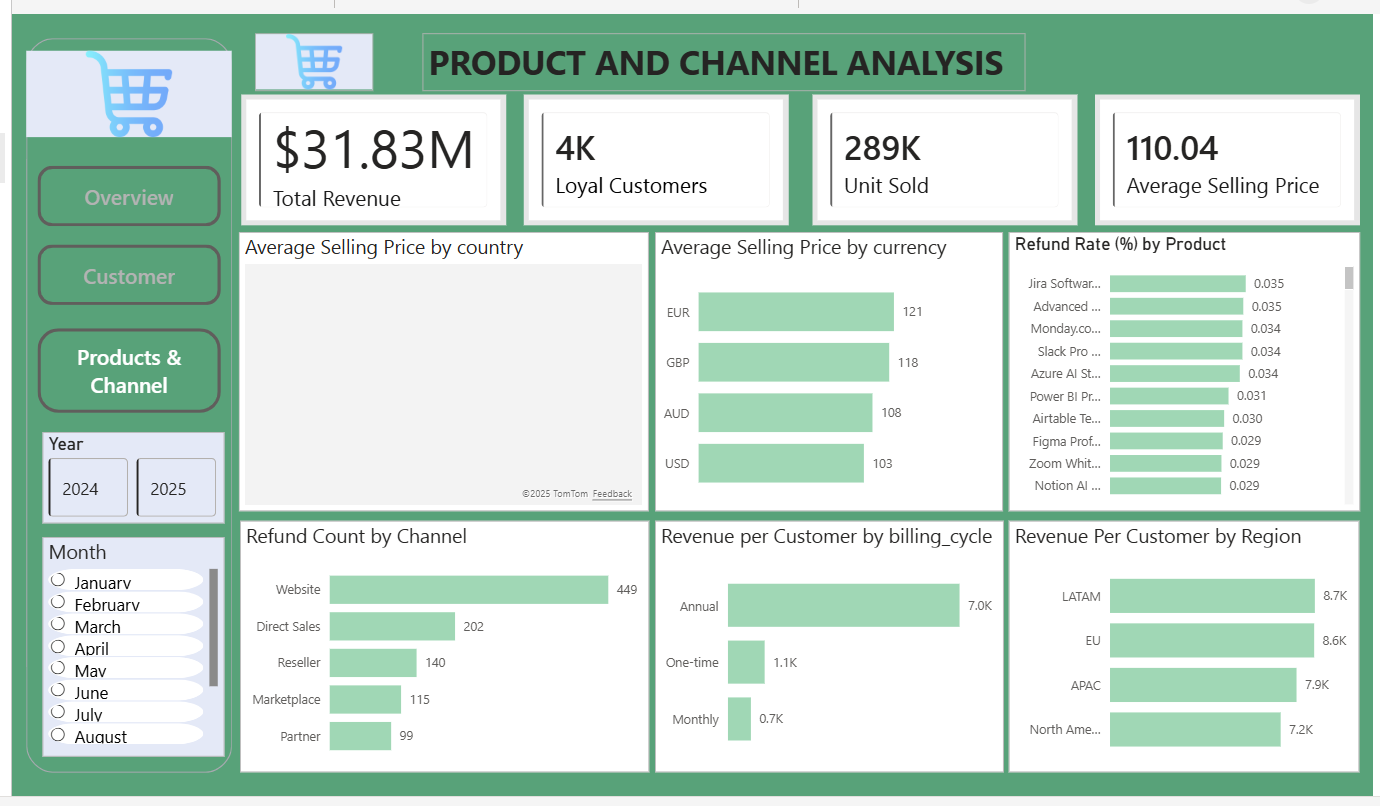

The page's visual inventory and layout, read from the dashboard file:
{"tool":"powerbi","page":{"name":"Product & Channel","canvas":[1280,720],"ordinal":2},"visuals":[{"type":"shape","box":[1.3,10.8,196.3,700.7],"z":0},{"type":"cardVisual","title":"Total Revenue","fields":{"Data":["_Measure.Total Revenue"]},"box":[206.1,64.6,252.8,125],"z":1000},{"type":"cardVisual","title":"Total Revenue","fields":{"Data":["_Measure.Loyal Customers"]},"box":[475.3,64.6,252.8,125],"z":2000},{"type":"cardVisual","title":"Total Revenue","fields":{"Data":["_Measure.Unit Sold"]},"box":[751.4,64.6,252.8,125],"z":3000},{"type":"cardVisual","title":"Total Revenue","fields":{"Data":["_Measure.Average Selling Price"]},"box":[1020.6,64.6,252.8,125],"z":4000},{"type":"azureMap","fields":{"Size":["_Measure.Average Selling Price"],"Category":["Customers.country"]},"box":[204.4,195,391.3,266.3],"z":5000},{"type":"barChart","fields":{"Category":["Events.currency"],"Y":["_Measure.Average Selling Price"]},"box":[601.1,195,332.2,266.3],"z":6000},{"type":"barChart","title":"Refund Rate (%) by Product","fields":{"Category":["Products.product_name"],"Y":["_Measure.Refund Rate (%)"]},"box":[938.7,195,334.9,266.3],"z":7000},{"type":"barChart","title":"Refund Count by Channel","fields":{"Category":["Events.channel"],"Y":["_Measure.Refund Count"]},"box":[204.7,470.9,390.4,240.2],"z":8000},{"type":"barChart","fields":{"Y":["_Measure.Revenue per Customer"],"Category":["Products.billing_cycle"]},"box":[600.6,471.1,333,240],"z":9000},{"type":"barChart","title":"Revenue Per Customer by Region","fields":{"Category":["Customers.region"],"Y":["_Measure.Revenue per Customer"]},"box":[939.1,471,334.4,240.2],"z":10000},{"type":"image","box":[219.2,5.4,113,55.1],"z":11000},{"type":"textbox","box":[379.2,5.4,575.6,55.1],"z":12000},{"type":"image","box":[1.3,22.9,196.3,82],"z":13000},{"type":"actionButton","box":[12.1,131.8,174.8,57.8],"z":14000},{"type":"actionButton","box":[12.1,207.1,174.8,57.8],"z":15000},{"type":"actionButton","box":[12.1,287.8,174.8,80.7],"z":16000},{"type":"advancedSlicerVisual","fields":{"Values":["Events.Year"]},"box":[16.1,386,173.5,87.4],"z":17000},{"type":"listSlicer","title":"Month","fields":{"Values":["Events.Month Name"]},"box":[16.1,486.8,173.5,209.8],"z":18000}]}

Visuals, with their boxes in screenshot pixels (x1, y1, x2, y2):
shape: <bbox>9, 33, 217, 778</bbox>
"Total Revenue" cardVisual: <bbox>226, 90, 495, 223</bbox>
"Total Revenue" cardVisual: <bbox>513, 90, 781, 223</bbox>
"Total Revenue" cardVisual: <bbox>806, 90, 1075, 223</bbox>
"Total Revenue" cardVisual: <bbox>1092, 90, 1361, 223</bbox>
azureMap - _Measure.Average Selling Price x Customers.country: <bbox>225, 229, 641, 512</bbox>
barChart - Events.currency x _Measure.Average Selling Price: <bbox>646, 229, 999, 512</bbox>
"Refund Rate (%) by Product" barChart: <bbox>1005, 229, 1361, 512</bbox>
"Refund Count by Channel" barChart: <bbox>225, 522, 640, 778</bbox>
barChart - _Measure.Revenue per Customer x Products.billing_cycle: <bbox>646, 522, 1000, 778</bbox>
"Revenue Per Customer by Region" barChart: <bbox>1006, 522, 1361, 778</bbox>
image: <bbox>240, 27, 360, 86</bbox>
textbox: <bbox>410, 27, 1022, 86</bbox>
image: <bbox>9, 46, 217, 133</bbox>
actionButton: <bbox>20, 162, 206, 223</bbox>
actionButton: <bbox>20, 242, 206, 303</bbox>
actionButton: <bbox>20, 328, 206, 413</bbox>
advancedSlicerVisual - Events.Year: <bbox>24, 432, 209, 525</bbox>
"Month" listSlicer: <bbox>24, 539, 209, 762</bbox>
